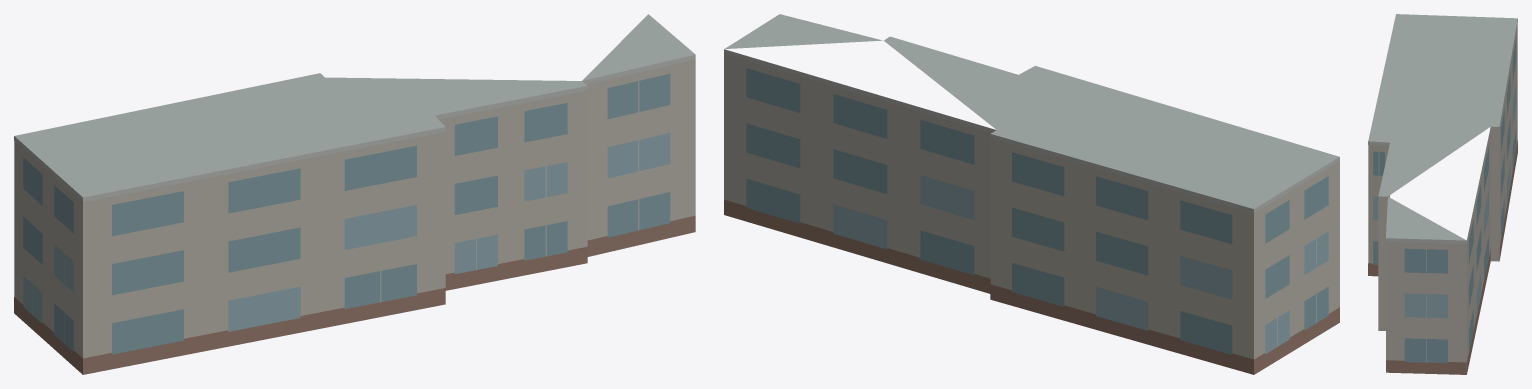
File: survey-upis-32658083.glb
The picture shows the model from 3 angles, left to right: view 1: azimuth 30°, elevation 25°; view 2: azimuth 150°, elevation 25°; view 3: azimuth 270°, elevation 25°; orthographic projection. The views are drawn at different scales.
Visible parts, largest first — view 1: survey-upis-32658083.tmp; view 2: survey-upis-32658083.tmp; view 3: survey-upis-32658083.tmp.
Boxes of the visible parts, box(x1,y1,x2,y2) form: survey-upis-32658083.tmp: box(14, 14, 695, 374); survey-upis-32658083.tmp: box(724, 14, 1339, 374); survey-upis-32658083.tmp: box(1368, 14, 1517, 374).
Bounding box in the file's own units: 33.6 × 9.3 × 9.39.
